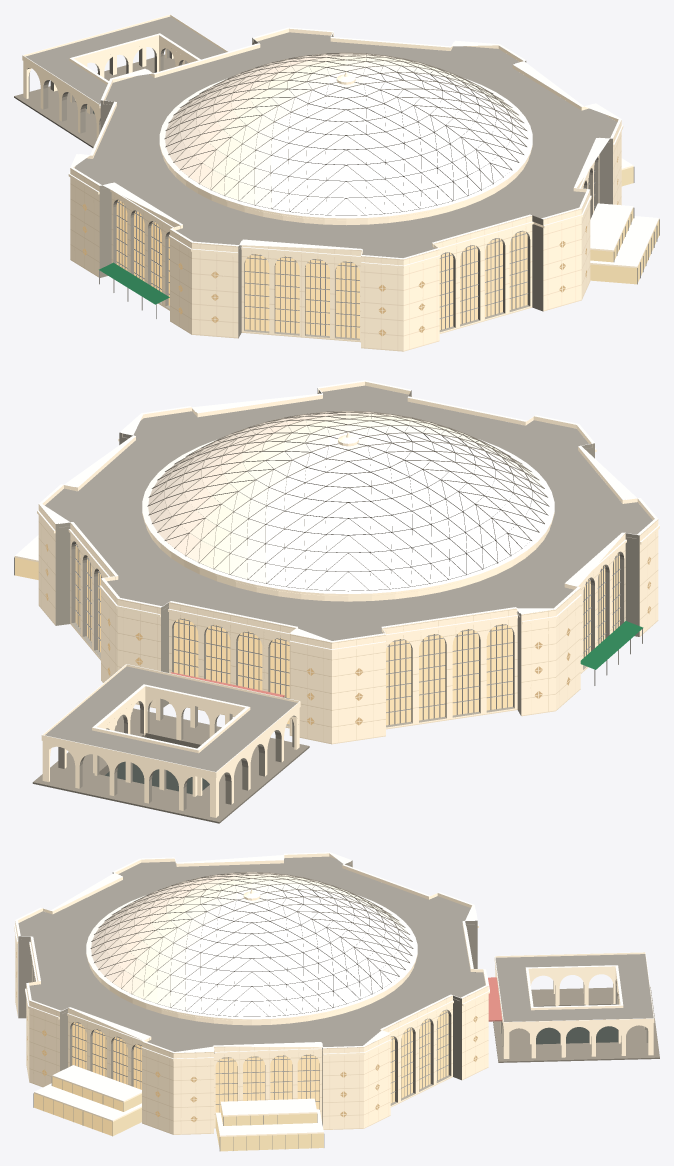
File: convention_centre.glb
3 renders of one model, top to bottom at view 1: azimuth 30°, elevation 25°; view 2: azimuth 150°, elevation 25°; view 3: azimuth 270°, elevation 25°, orthographic. The views are drawn at different scales.
Parts seen in each view (by area): view 1: m_jcc_dome, m_jcc_roof_ring, m_jcc_cladding, m_jcc_plain, m_jcc_glass, m_jcc_dome_seam, m_jcc_reveal, m_jcc_mullion, m_jcc_paving, m_jcc_annex_glass, m_jcc_canopy_green, m_jcc_diamond; view 2: m_jcc_dome, m_jcc_roof_ring, m_jcc_cladding, m_jcc_plain, m_jcc_glass, m_jcc_dome_seam, m_jcc_reveal, m_jcc_paving, m_jcc_mullion, m_jcc_canopy_green, m_jcc_court, m_jcc_diamond; view 3: m_jcc_dome, m_jcc_roof_ring, m_jcc_plain, m_jcc_cladding, m_jcc_dome_seam, m_jcc_glass, m_jcc_annex_glass, m_jcc_paving, m_jcc_reveal, m_jcc_mullion, m_jcc_court, m_jcc_canopy_red (+1 smaller).
Part boxes in pixels (x1,y1,x2,y2): m_jcc_dome: (165, 53, 527, 215); m_jcc_roof_ring: (25, 16, 617, 257); m_jcc_cladding: (70, 120, 621, 351); m_jcc_plain: (22, 14, 659, 336); m_jcc_glass: (116, 200, 527, 338); m_jcc_dome_seam: (164, 52, 527, 215); m_jcc_reveal: (27, 34, 612, 340); m_jcc_mullion: (99, 165, 659, 338); m_jcc_paving: (14, 54, 182, 147); m_jcc_annex_glass: (590, 167, 659, 284); m_jcc_canopy_green: (99, 262, 169, 304); m_jcc_diamond: (82, 156, 618, 335); m_jcc_dome: (148, 411, 548, 590); m_jcc_roof_ring: (45, 385, 652, 771); m_jcc_cladding: (38, 504, 658, 744); m_jcc_plain: (14, 380, 659, 817); m_jcc_glass: (75, 543, 619, 725); m_jcc_dome_seam: (147, 411, 549, 591); m_jcc_reveal: (55, 388, 639, 810); m_jcc_paving: (32, 708, 309, 823); m_jcc_mullion: (14, 544, 642, 724); m_jcc_canopy_green: (580, 621, 643, 669); m_jcc_court: (105, 761, 209, 794); m_jcc_diamond: (45, 544, 650, 725); m_jcc_dome: (91, 872, 412, 1016); m_jcc_roof_ring: (18, 856, 653, 1053); m_jcc_plain: (14, 852, 654, 1136); m_jcc_cladding: (15, 921, 488, 1134); m_jcc_dome_seam: (90, 872, 413, 1016); m_jcc_glass: (72, 1010, 448, 1112); m_jcc_annex_glass: (34, 1077, 323, 1151); m_jcc_paving: (493, 987, 659, 1062); m_jcc_reveal: (18, 860, 648, 1125); m_jcc_mullion: (33, 1009, 448, 1151); m_jcc_court: (536, 1026, 618, 1044); m_jcc_canopy_red: (488, 977, 502, 1021).
Size of the model in its own units: 105 by 33.5 by 130.
14 materials, 1 textured.
